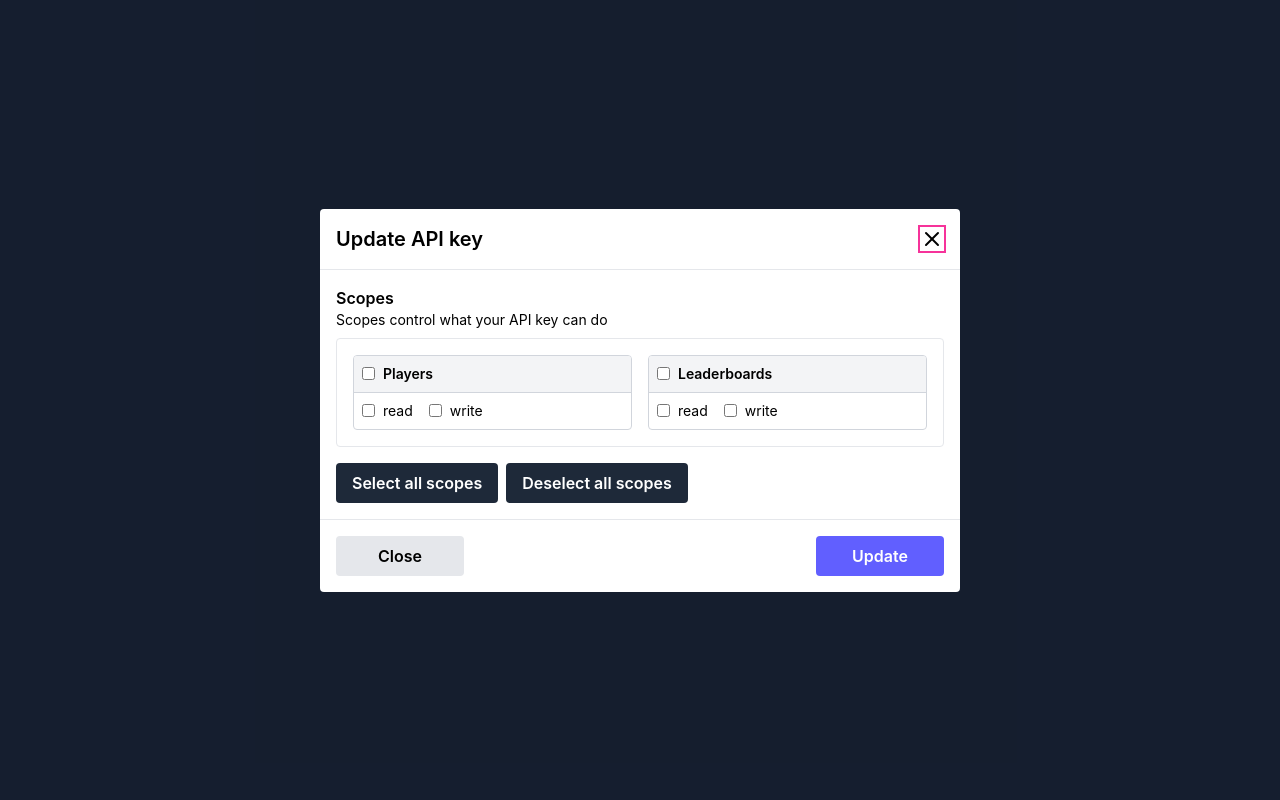
Test case: <APIKeyDetails /> › should be able to select all scopes
Click the button "Select all scopes": point(417, 482) x1=336 y1=462 x2=498 y2=502
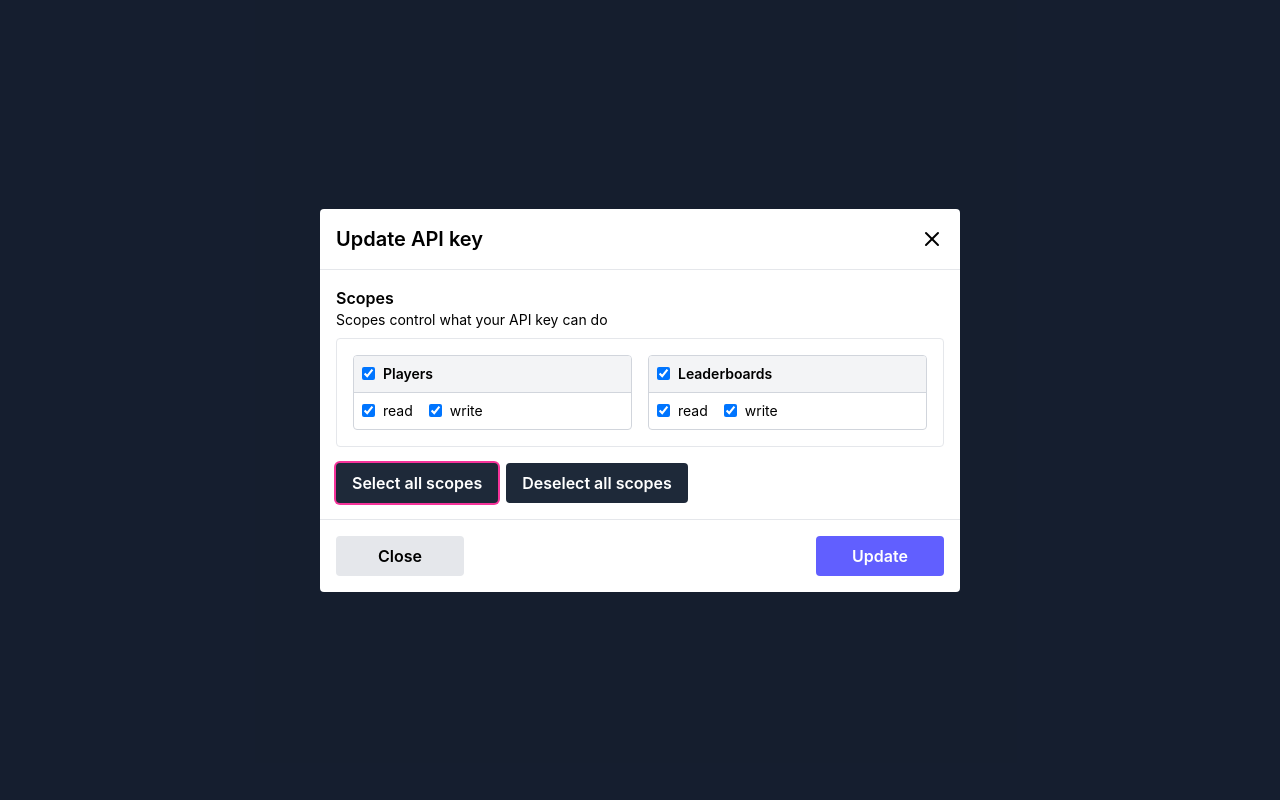
Check: the checkbox showing "read:leaderboards" below "Leaderboards" is checked, box x1=657 y1=404 x2=670 y2=417
Check: the checkbox showing "write:leaderboards" below "Leaderboards" is checked, box x1=724 y1=404 x2=737 y2=417
Check: the checkbox showing "read:players" below "Players" is checked, box x1=362 y1=404 x2=375 y2=417
